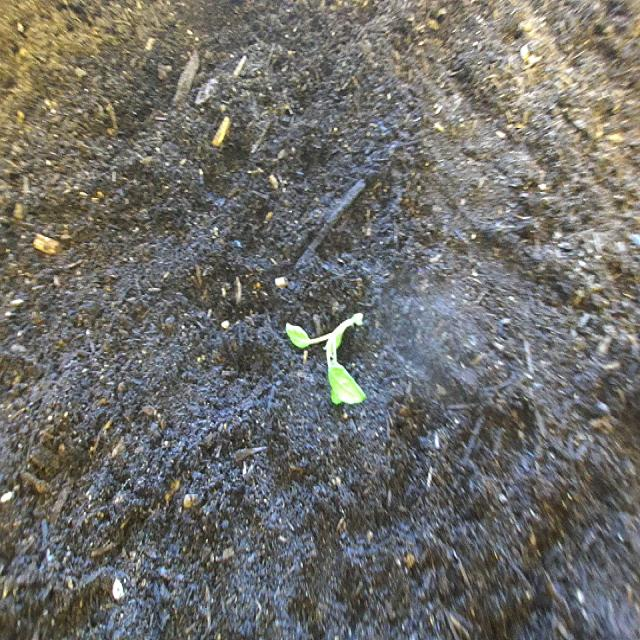Unhealthy: (275, 277, 376, 420)
